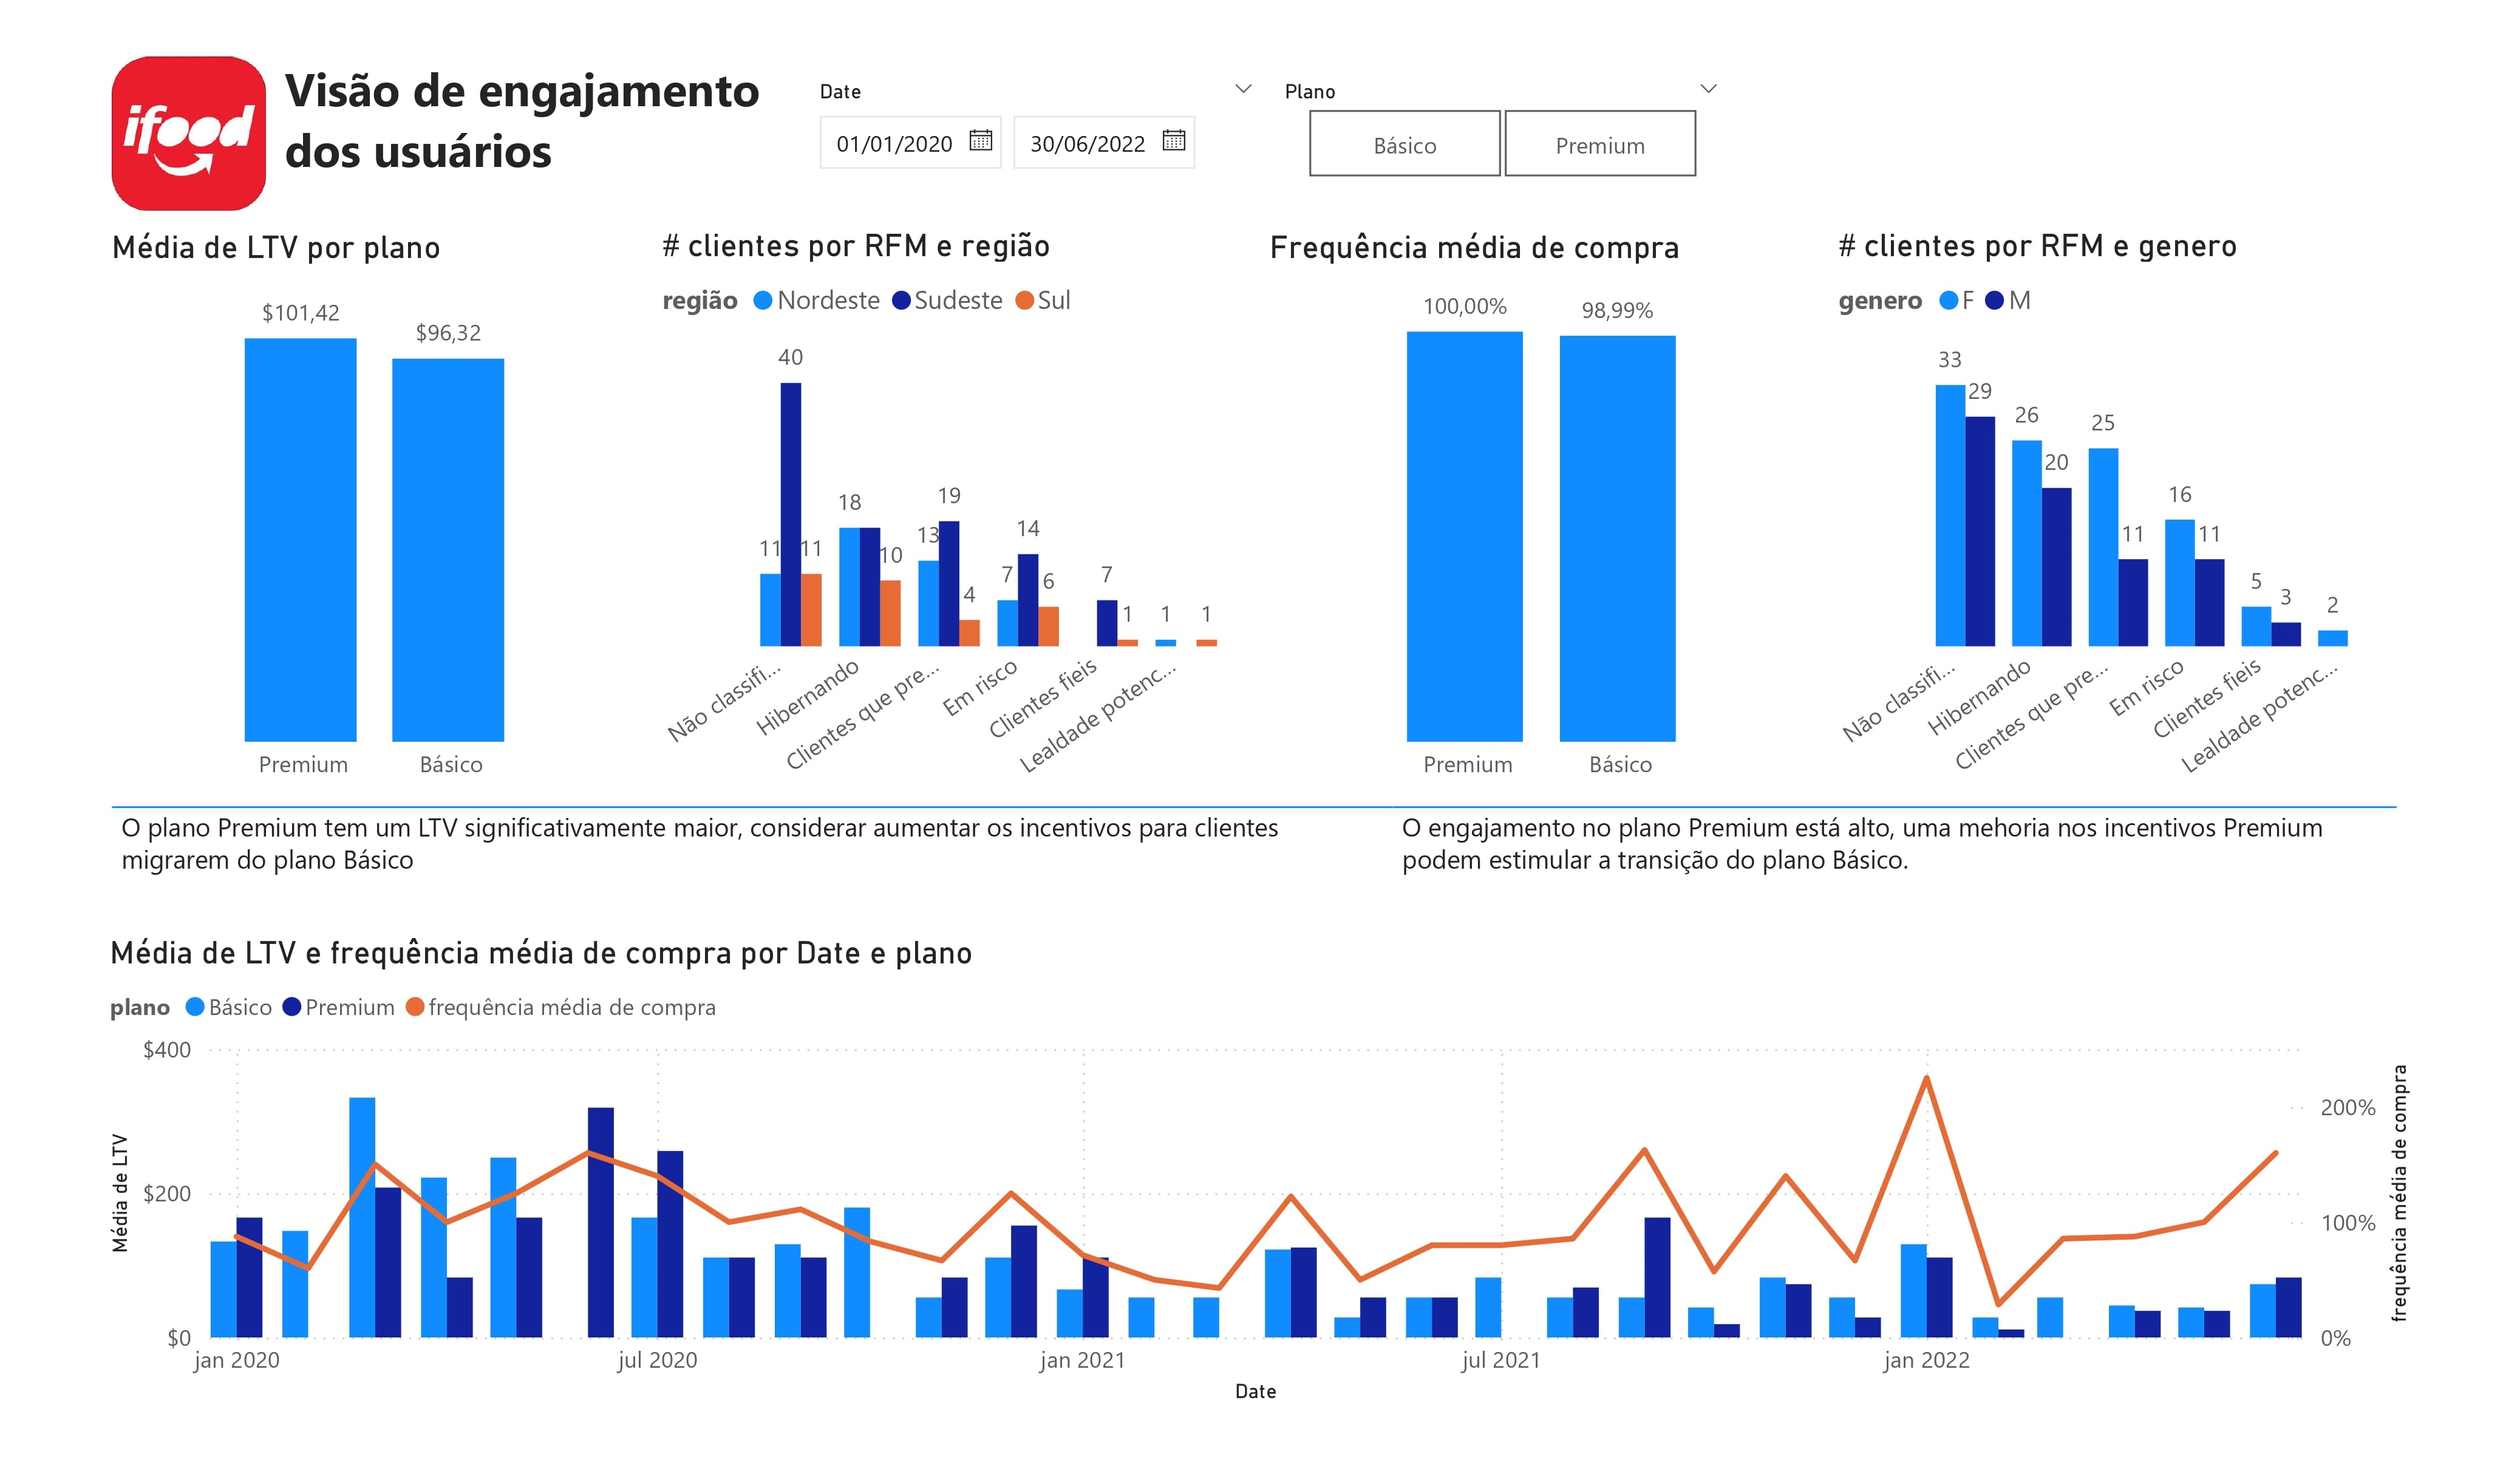

The page's visual inventory and layout, read from the dashboard file:
{"tool":"powerbi","page":{"name":"Usuários","canvas":[1280,720],"ordinal":3},"visuals":[{"type":"tableEx","fields":{"Values":["Tabela 1 (clientes).1 Texto","Tabela 1 (clientes).2 Texto"]},"box":[29.1,372,1222.3,96],"z":0},{"type":"slicer","fields":{"Values":["TabelaDatas.Date"]},"box":[395.3,12.7,254.1,63.5],"z":1000},{"type":"clusteredColumnChart","title":"Média de LTV por plano","fields":{"Y":["Avg(Tabela 1 (clientes).LTV)"],"Category":["Tabela 1 (clientes).plano_clube"]},"box":[29.6,96,290.8,300.7],"z":2000},{"type":"clusteredColumnChart","title":"Frequência média de compra","fields":{"Y":["Avg(Tabela 1 (clientes).frequencia_compras)"],"Category":["Tabela 1 (clientes).plano_clube"]},"box":[639.5,96,300.7,300.7],"z":3000},{"type":"clusteredColumnChart","fields":{"Y":["Count(Tabela 1 (clientes).id_cliente)"],"Series":["Tabela 1 (clientes).classificação_regiao"],"Category":["Tabela 1 (clientes).RFM"]},"box":[320.5,94.6,319.1,302.1],"z":4000},{"type":"clusteredColumnChart","fields":{"Y":["Count(Tabela 1 (clientes).id_cliente)"],"Category":["Tabela 1 (clientes).RFM"],"Series":["Tabela 1 (clientes).genero"]},"box":[940.2,94.6,310.6,302.1],"z":5000},{"type":"lineClusteredColumnComboChart","fields":{"Category":["TabelaDatas.Date.Variation.Hierarquia de datas.Ano"],"Y":["Avg(Tabela 1 (clientes).LTV)"],"Y2":["Avg(Tabela 1 (clientes).frequencia_compras)"],"Series":["Tabela 1 (clientes).plano_clube"]},"box":[29.1,468,1222.3,252],"z":6000},{"type":"slicer","fields":{"Values":["Tabela 1 (clientes).plano_clube"]},"box":[639.5,12.7,254.1,63.5],"z":7000},{"type":"image","box":[29.6,0,91.8,93.2],"z":8000},{"type":"textbox","box":[121.4,1.4,273.9,91.8],"z":8001}]}

Visuals, with their boxes on the page's 1280x720 design canvas (x1, y1, x2, y2). These are canvas units, not pixel positions in the 2520x1457 screenshot, which may show the page scaled, cropped or inside an application window:
tableEx - Tabela 1 (clientes).1 Texto x Tabela 1 (clientes).2 Texto: 29:372:1251:468
slicer - TabelaDatas.Date: 395:13:649:76
"Média de LTV por plano" clusteredColumnChart: 30:96:320:397
"Frequência média de compra" clusteredColumnChart: 640:96:940:397
clusteredColumnChart - Count(Tabela 1 (clientes).id_cliente) x Tabela 1 (clientes).classificação_regiao: 320:95:640:397
clusteredColumnChart - Count(Tabela 1 (clientes).id_cliente) x Tabela 1 (clientes).RFM: 940:95:1251:397
lineClusteredColumnComboChart - TabelaDatas.Date.Variation.Hierarquia de datas.Ano x Avg(Tabela 1 (clientes).LTV): 29:468:1251:720
slicer - Tabela 1 (clientes).plano_clube: 640:13:894:76
image: 30:0:121:93
textbox: 121:1:395:93
